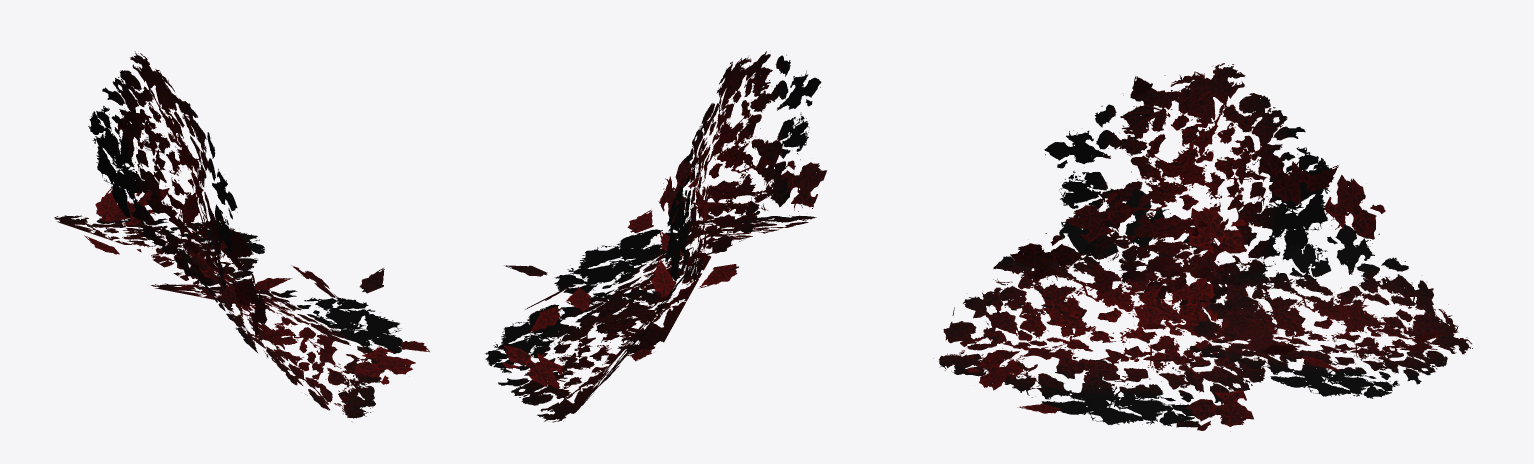
Rendered from Clover2.glb.
3 renders of one model, left to right at view 1: azimuth 30°, elevation 25°; view 2: azimuth 150°, elevation 25°; view 3: azimuth 270°, elevation 25°, orthographic. The views are drawn at different scales.
Parts seen in each view (by area): view 1: Clover2; view 2: Clover2; view 3: Clover2.
Boxes of the visible parts, x1=… form: Clover2: x1=54, y1=51, x2=429, y2=421; Clover2: x1=485, y1=51, x2=826, y2=422; Clover2: x1=933, y1=63, x2=1472, y2=431.
Size of the model in its own units: 2.18 by 2.73 by 4.79.
Materials: 1 (1 with a texture image).
